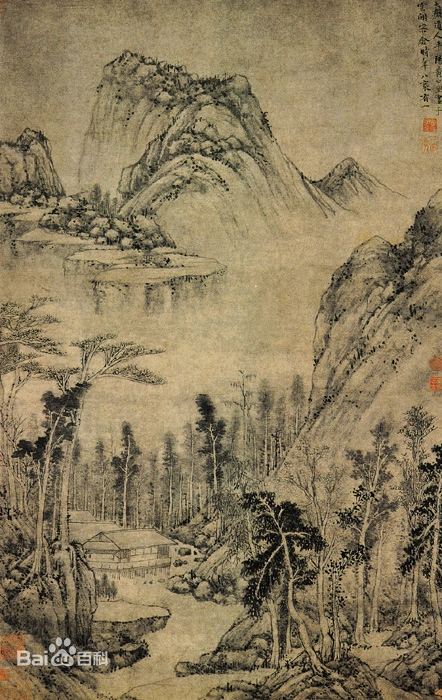house: (77, 521, 182, 590)
mountain: (11, 124, 63, 203), (327, 149, 386, 214)
range: (93, 54, 297, 237)
rock: (277, 648, 378, 696)
tree: (21, 292, 147, 601), (88, 368, 308, 511), (236, 491, 340, 684), (339, 409, 381, 659), (398, 403, 442, 635)
